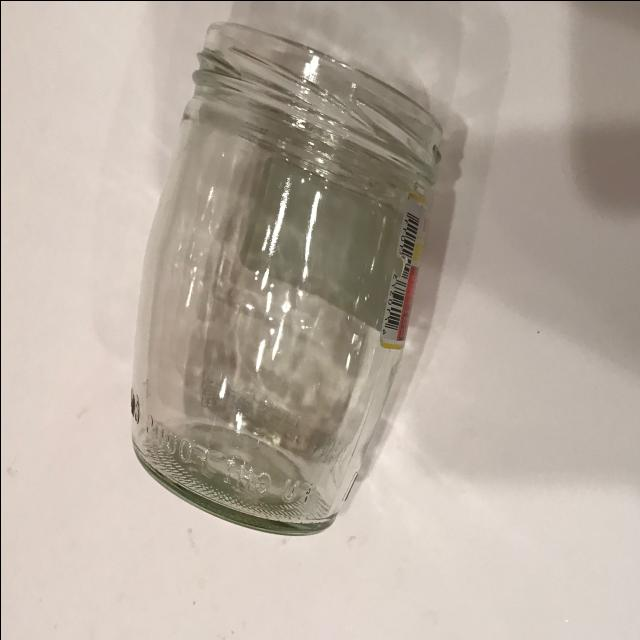glass: (106, 16, 470, 544)
